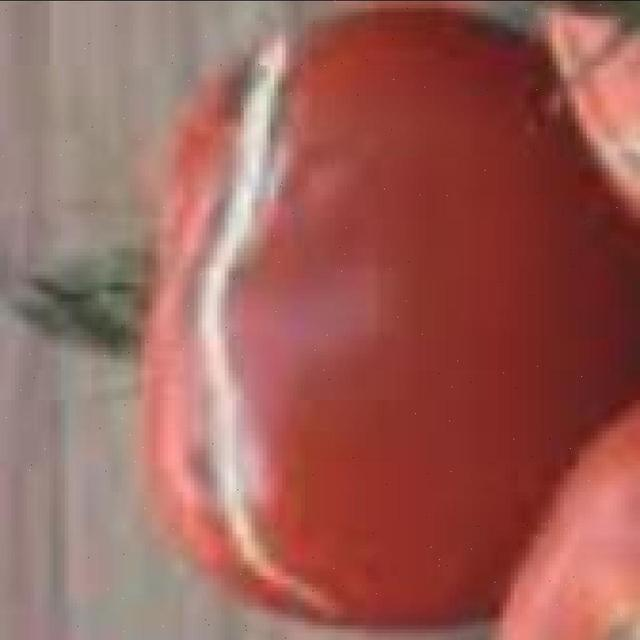Cracking Fruit: (115, 19, 230, 415)
